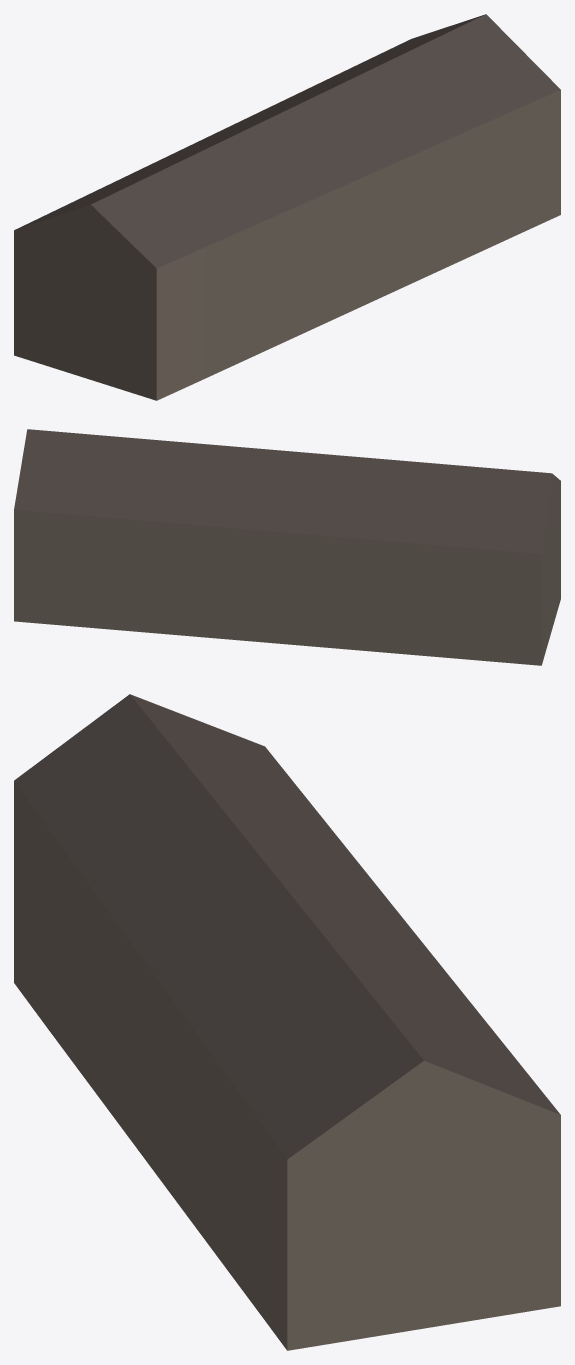
The picture shows the model from 3 angles, top to bottom: view 1: azimuth 30°, elevation 25°; view 2: azimuth 150°, elevation 25°; view 3: azimuth 270°, elevation 25°; orthographic projection. The views are drawn at different scales.
Parts seen in each view (by area): view 1: HP-w677032423; view 2: HP-w677032423; view 3: HP-w677032423.
Part boxes in pixels (x1,y1,x2,y2): HP-w677032423: (14,14,560,400); HP-w677032423: (14,429,560,665); HP-w677032423: (14,694,560,1350).
Size of the model in its own units: 27.8 by 8.41 by 15.56.
